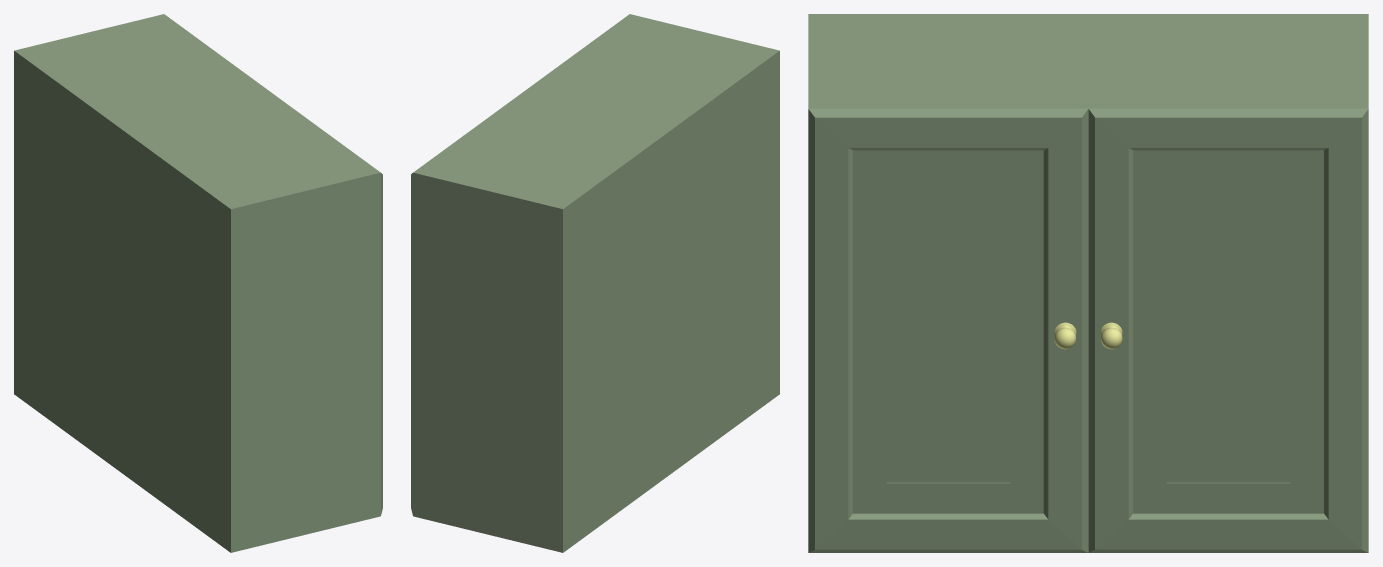
File: Cabinet_Wall2_Double.fbx
3 views of the same model, side by side, from view 1: azimuth 30°, elevation 25°; view 2: azimuth 150°, elevation 25°; view 3: azimuth 270°, elevation 25° (orthographic). The views are drawn at different scales.
Visible parts, largest first — view 1: Cabinet.005, Door_Left.004, Door_Left.005; view 2: Cabinet.005, Door_Left.005, Door_Left.004; view 3: Door_Left.004, Door_Left.005, Cabinet.005.
Part boxes in pixels (x1,y1,x2,y2): Cabinet.005: [14, 16, 371, 552]; Door_Left.004: [263, 93, 382, 518]; Door_Left.005: [155, 14, 271, 95]; Cabinet.005: [422, 16, 779, 552]; Door_Left.005: [411, 93, 530, 518]; Door_Left.004: [522, 14, 638, 95]; Door_Left.004: [808, 102, 1088, 552]; Door_Left.005: [1088, 102, 1368, 552]; Cabinet.005: [808, 14, 1368, 102].
Size of the model in its own units: 36.5 by 70 by 80.
